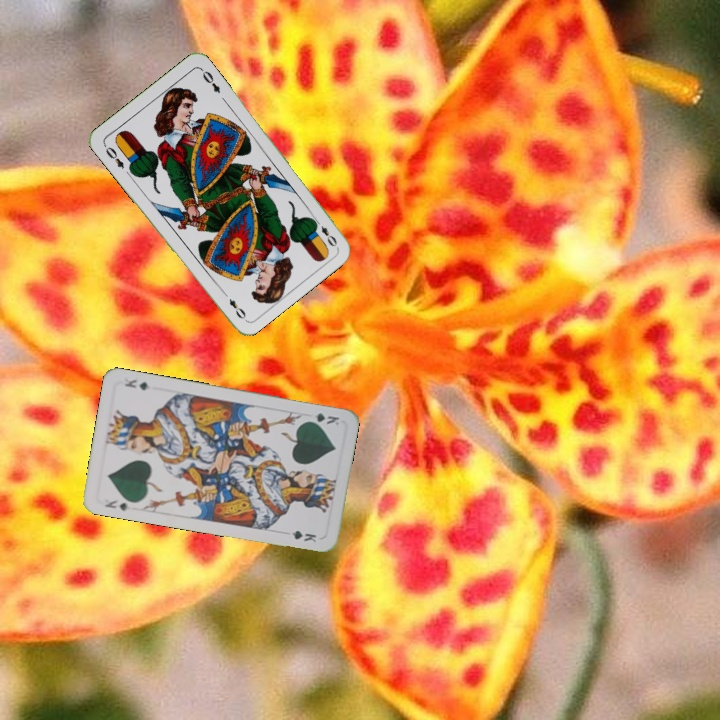EO: (310, 214, 340, 249), (100, 141, 127, 171)
GK: (302, 409, 342, 428), (100, 495, 130, 513)
